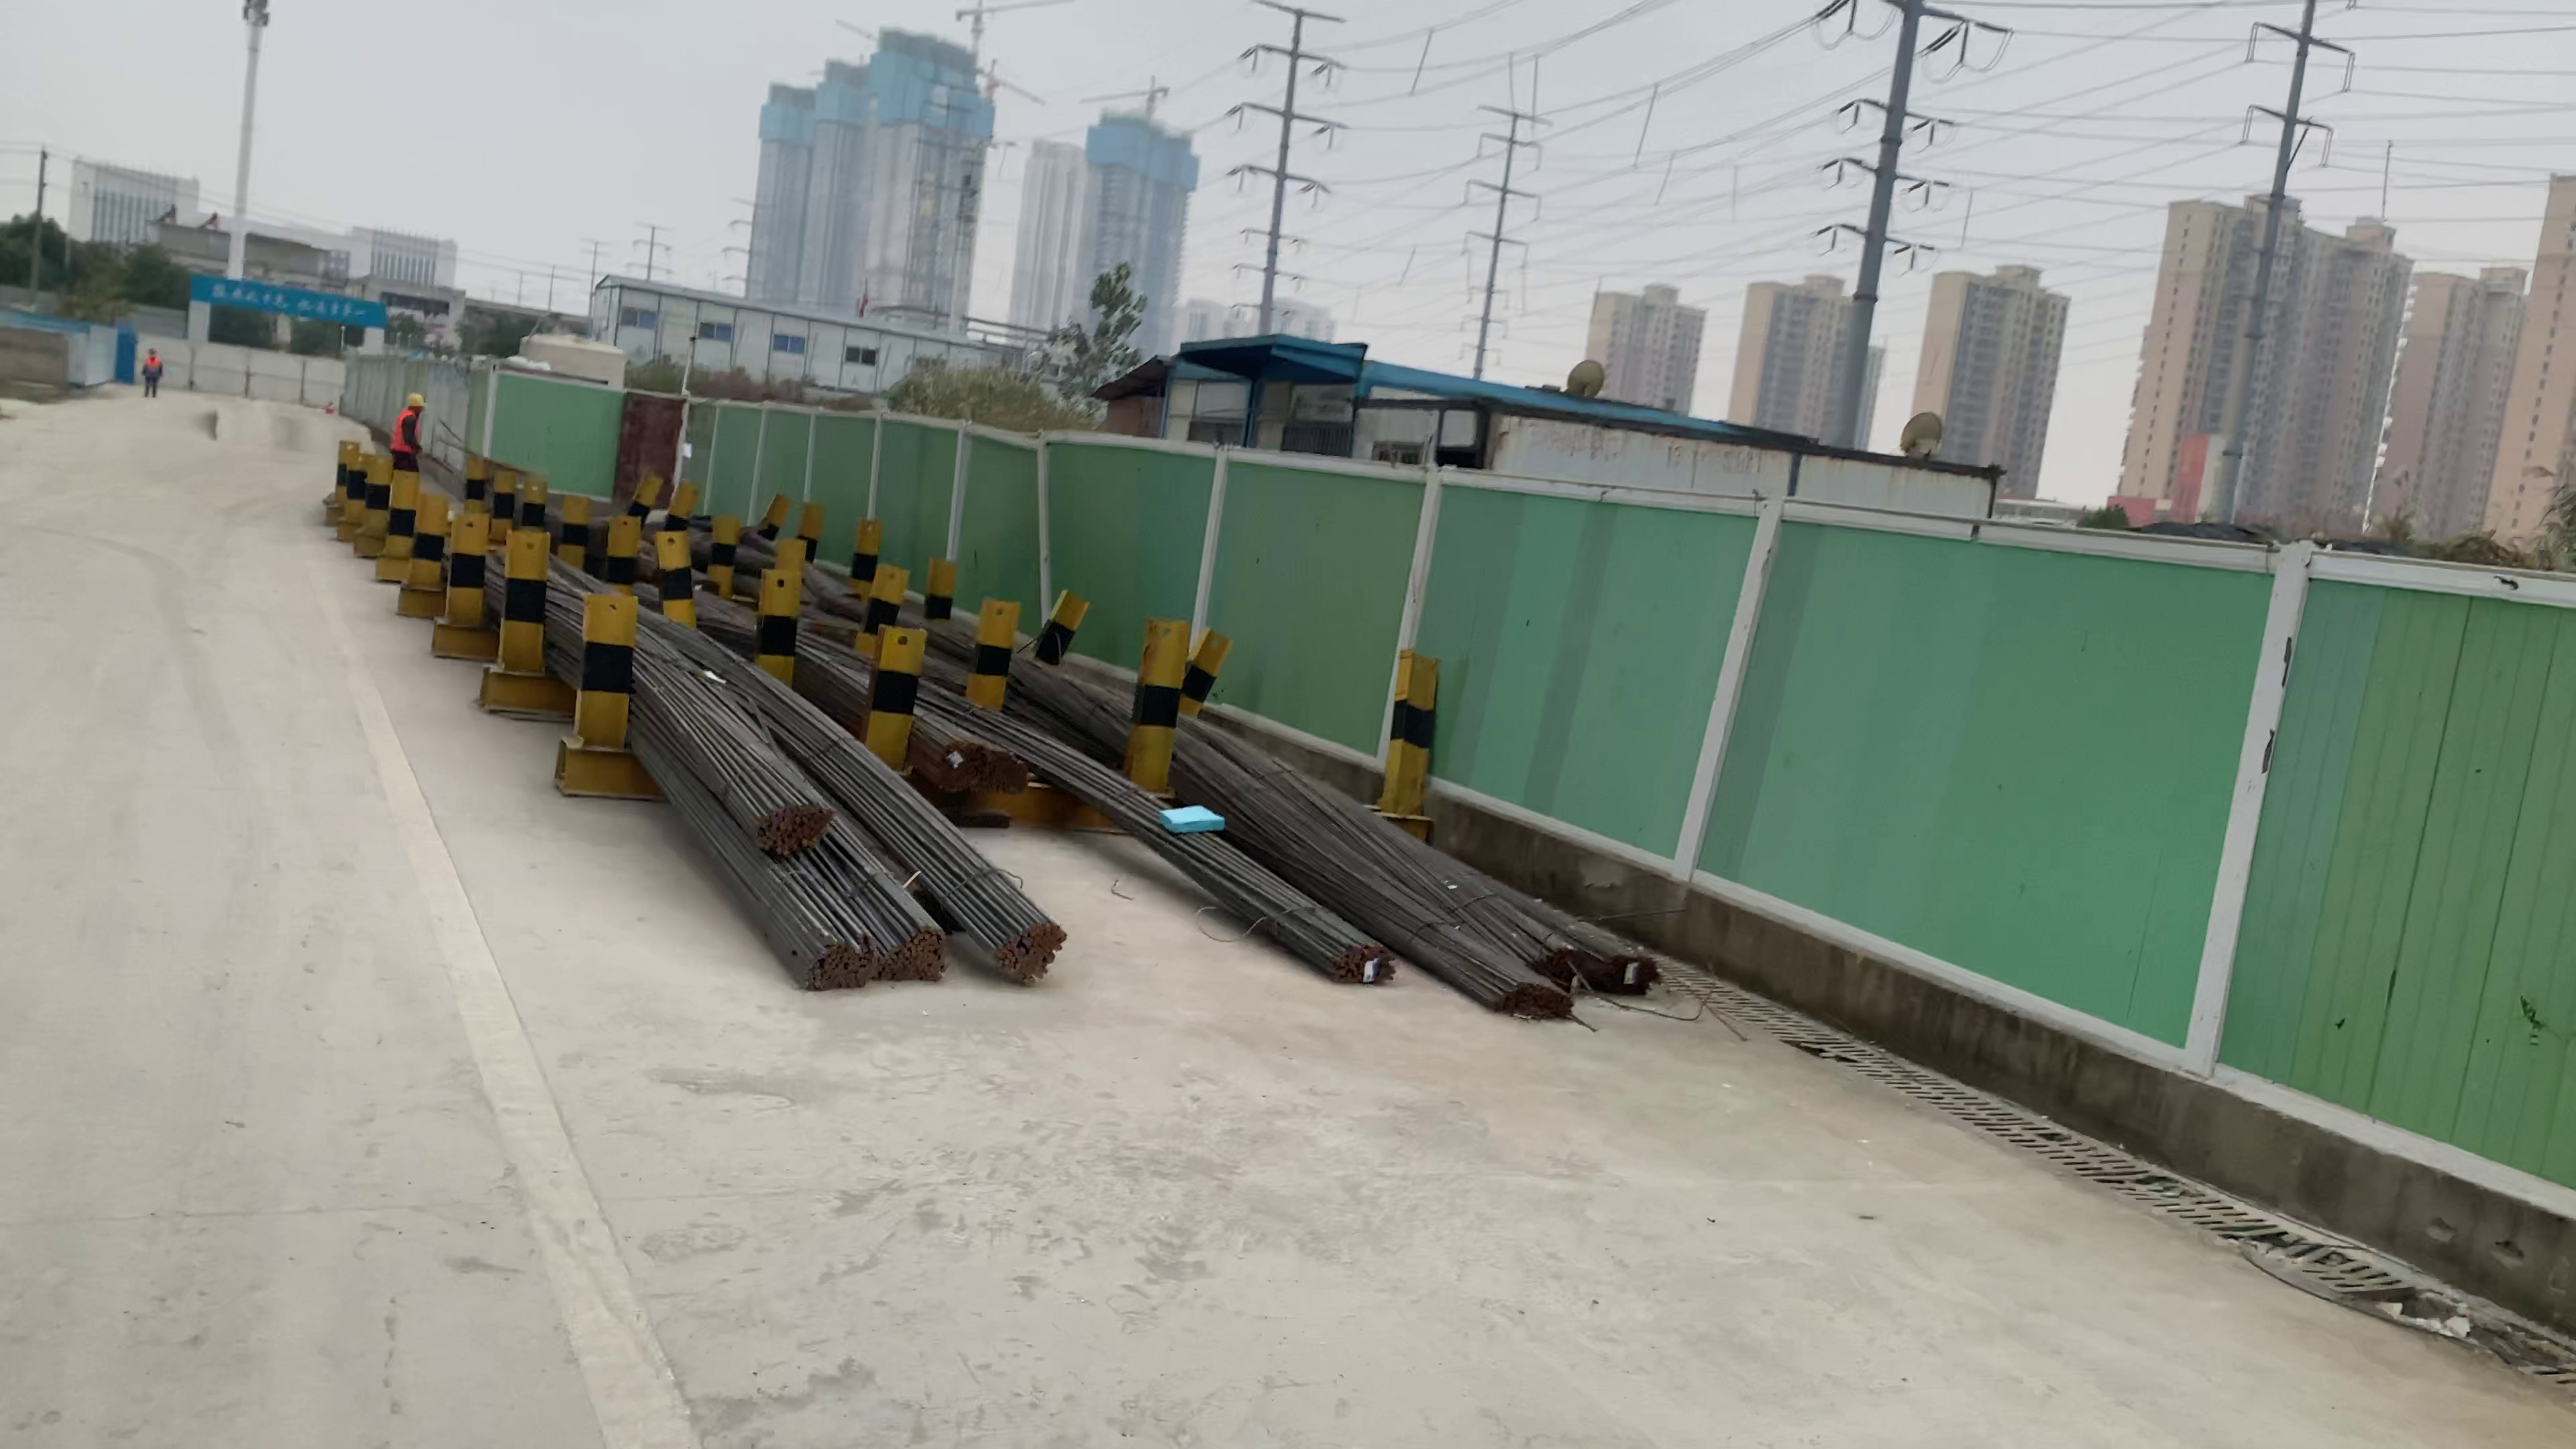rebar: (989, 916, 1069, 984), (752, 796, 839, 853), (796, 932, 872, 991), (1323, 938, 1398, 985), (885, 927, 952, 978), (1497, 978, 1576, 1019), (1605, 950, 1660, 996), (982, 743, 1031, 791), (1543, 947, 1598, 985), (936, 738, 982, 784)
